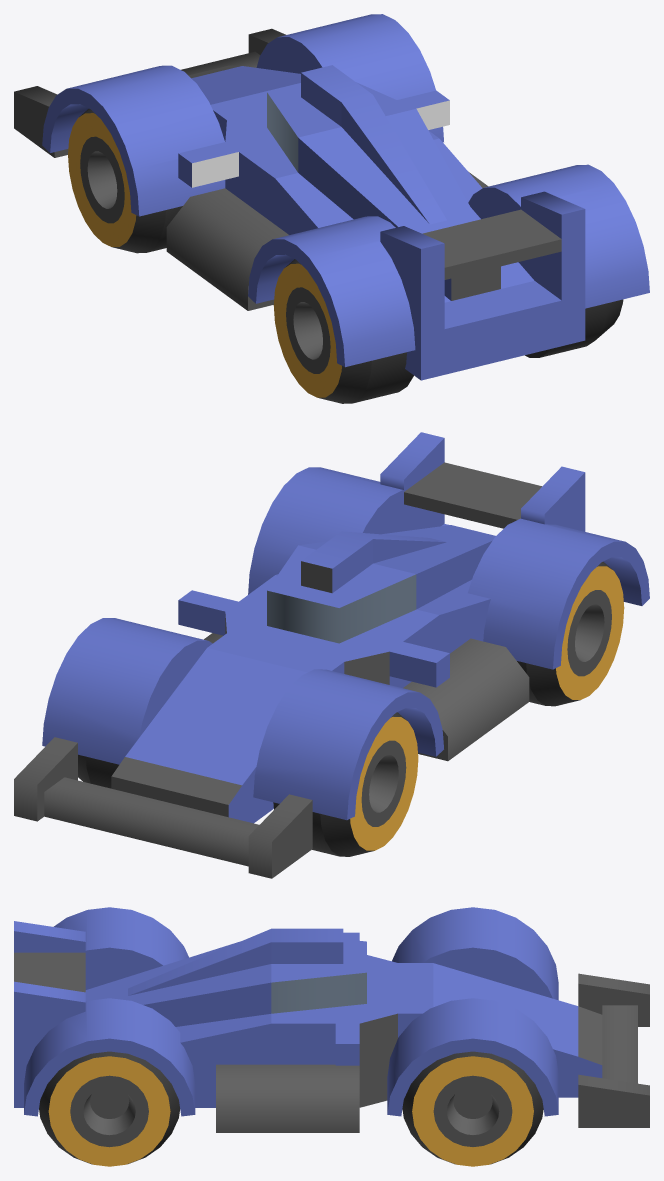
Rendered from raceFuture.glb.
The picture shows the model from 3 angles, top to bottom: view 1: azimuth 30°, elevation 25°; view 2: azimuth 150°, elevation 25°; view 3: azimuth 270°, elevation 25°; orthographic projection. The views are drawn at different scales.
Parts seen in each view (by area): view 1: body, wheel_backLeft, wheel_frontLeft, wheel_backRight; view 2: body, wheel_frontLeft, wheel_backLeft, wheel_frontRight; view 3: body, wheel_frontRight, wheel_backRight.
Part boxes in pixels (x1,y1,x2,y2): body: (14,14,649,380); wheel_backLeft: (273,259,413,403); wheel_frontLeft: (68,108,182,253); wheel_backRight: (525,299,623,357); body: (14,432,649,878); wheel_frontLeft: (273,712,418,856); wheel_backLeft: (517,561,624,706); wheel_frontRight: (78,754,118,788); body: (14,907,649,1132); wheel_frontRight: (402,1051,543,1166); wheel_backRight: (39,1051,179,1166).
Size of the model in its own units: 1.3 by 0.8325 by 2.66.
